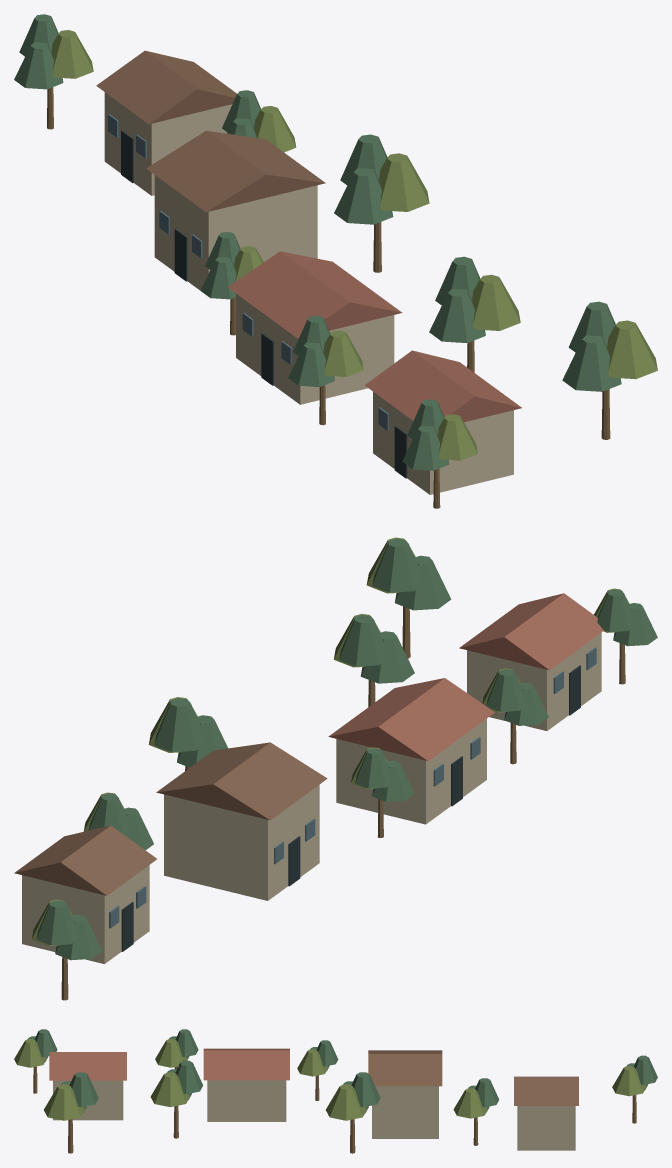
File: layout_village.glb
3 renders of one model, top to bottom at view 1: azimuth 30°, elevation 25°; view 2: azimuth 150°, elevation 25°; view 3: azimuth 270°, elevation 25°, orthographic. The views are drawn at different scales.
Visible parts, largest first — view 1: village_HarborLayout_wall, village_HarborLayout_leaf, village_HarborLayout_roof, village_HarborLayout_red, village_HarborLayout_leaf_light, village_HarborLayout_dark, village_HarborLayout_wood, village_HarborLayout_blue; view 2: village_HarborLayout_wall, village_HarborLayout_leaf, village_HarborLayout_red, village_HarborLayout_roof, village_HarborLayout_dark, village_HarborLayout_leaf_light, village_HarborLayout_wood, village_HarborLayout_blue; view 3: village_HarborLayout_wall, village_HarborLayout_leaf_light, village_HarborLayout_red, village_HarborLayout_roof, village_HarborLayout_leaf, village_HarborLayout_wood.
Boxes of the visible parts, x1,y1,x2,y2 form: village_HarborLayout_wall: (104, 92, 513, 494); village_HarborLayout_leaf: (14, 14, 621, 470); village_HarborLayout_roof: (96, 50, 325, 212); village_HarborLayout_red: (228, 251, 521, 422); village_HarborLayout_leaf_light: (51, 30, 657, 460); village_HarborLayout_dark: (121, 130, 407, 478); village_HarborLayout_wood: (47, 87, 610, 508); village_HarborLayout_blue: (108, 114, 388, 430); village_HarborLayout_wall: (22, 632, 601, 963); village_HarborLayout_leaf: (36, 538, 657, 960); village_HarborLayout_red: (328, 593, 603, 761); village_HarborLayout_roof: (14, 742, 327, 895); village_HarborLayout_dark: (121, 665, 580, 951); village_HarborLayout_leaf_light: (32, 537, 629, 946); village_HarborLayout_wood: (61, 606, 625, 1000); village_HarborLayout_blue: (109, 647, 596, 928); village_HarborLayout_wall: (53, 1080, 575, 1150); village_HarborLayout_leaf_light: (14, 1039, 646, 1120); village_HarborLayout_red: (49, 1048, 289, 1080); village_HarborLayout_roof: (368, 1050, 578, 1105); village_HarborLayout_leaf: (28, 1029, 657, 1113); village_HarborLayout_wood: (33, 1066, 636, 1153).
Size of the model in its own units: 11.05 by 4.86 by 36.54.
